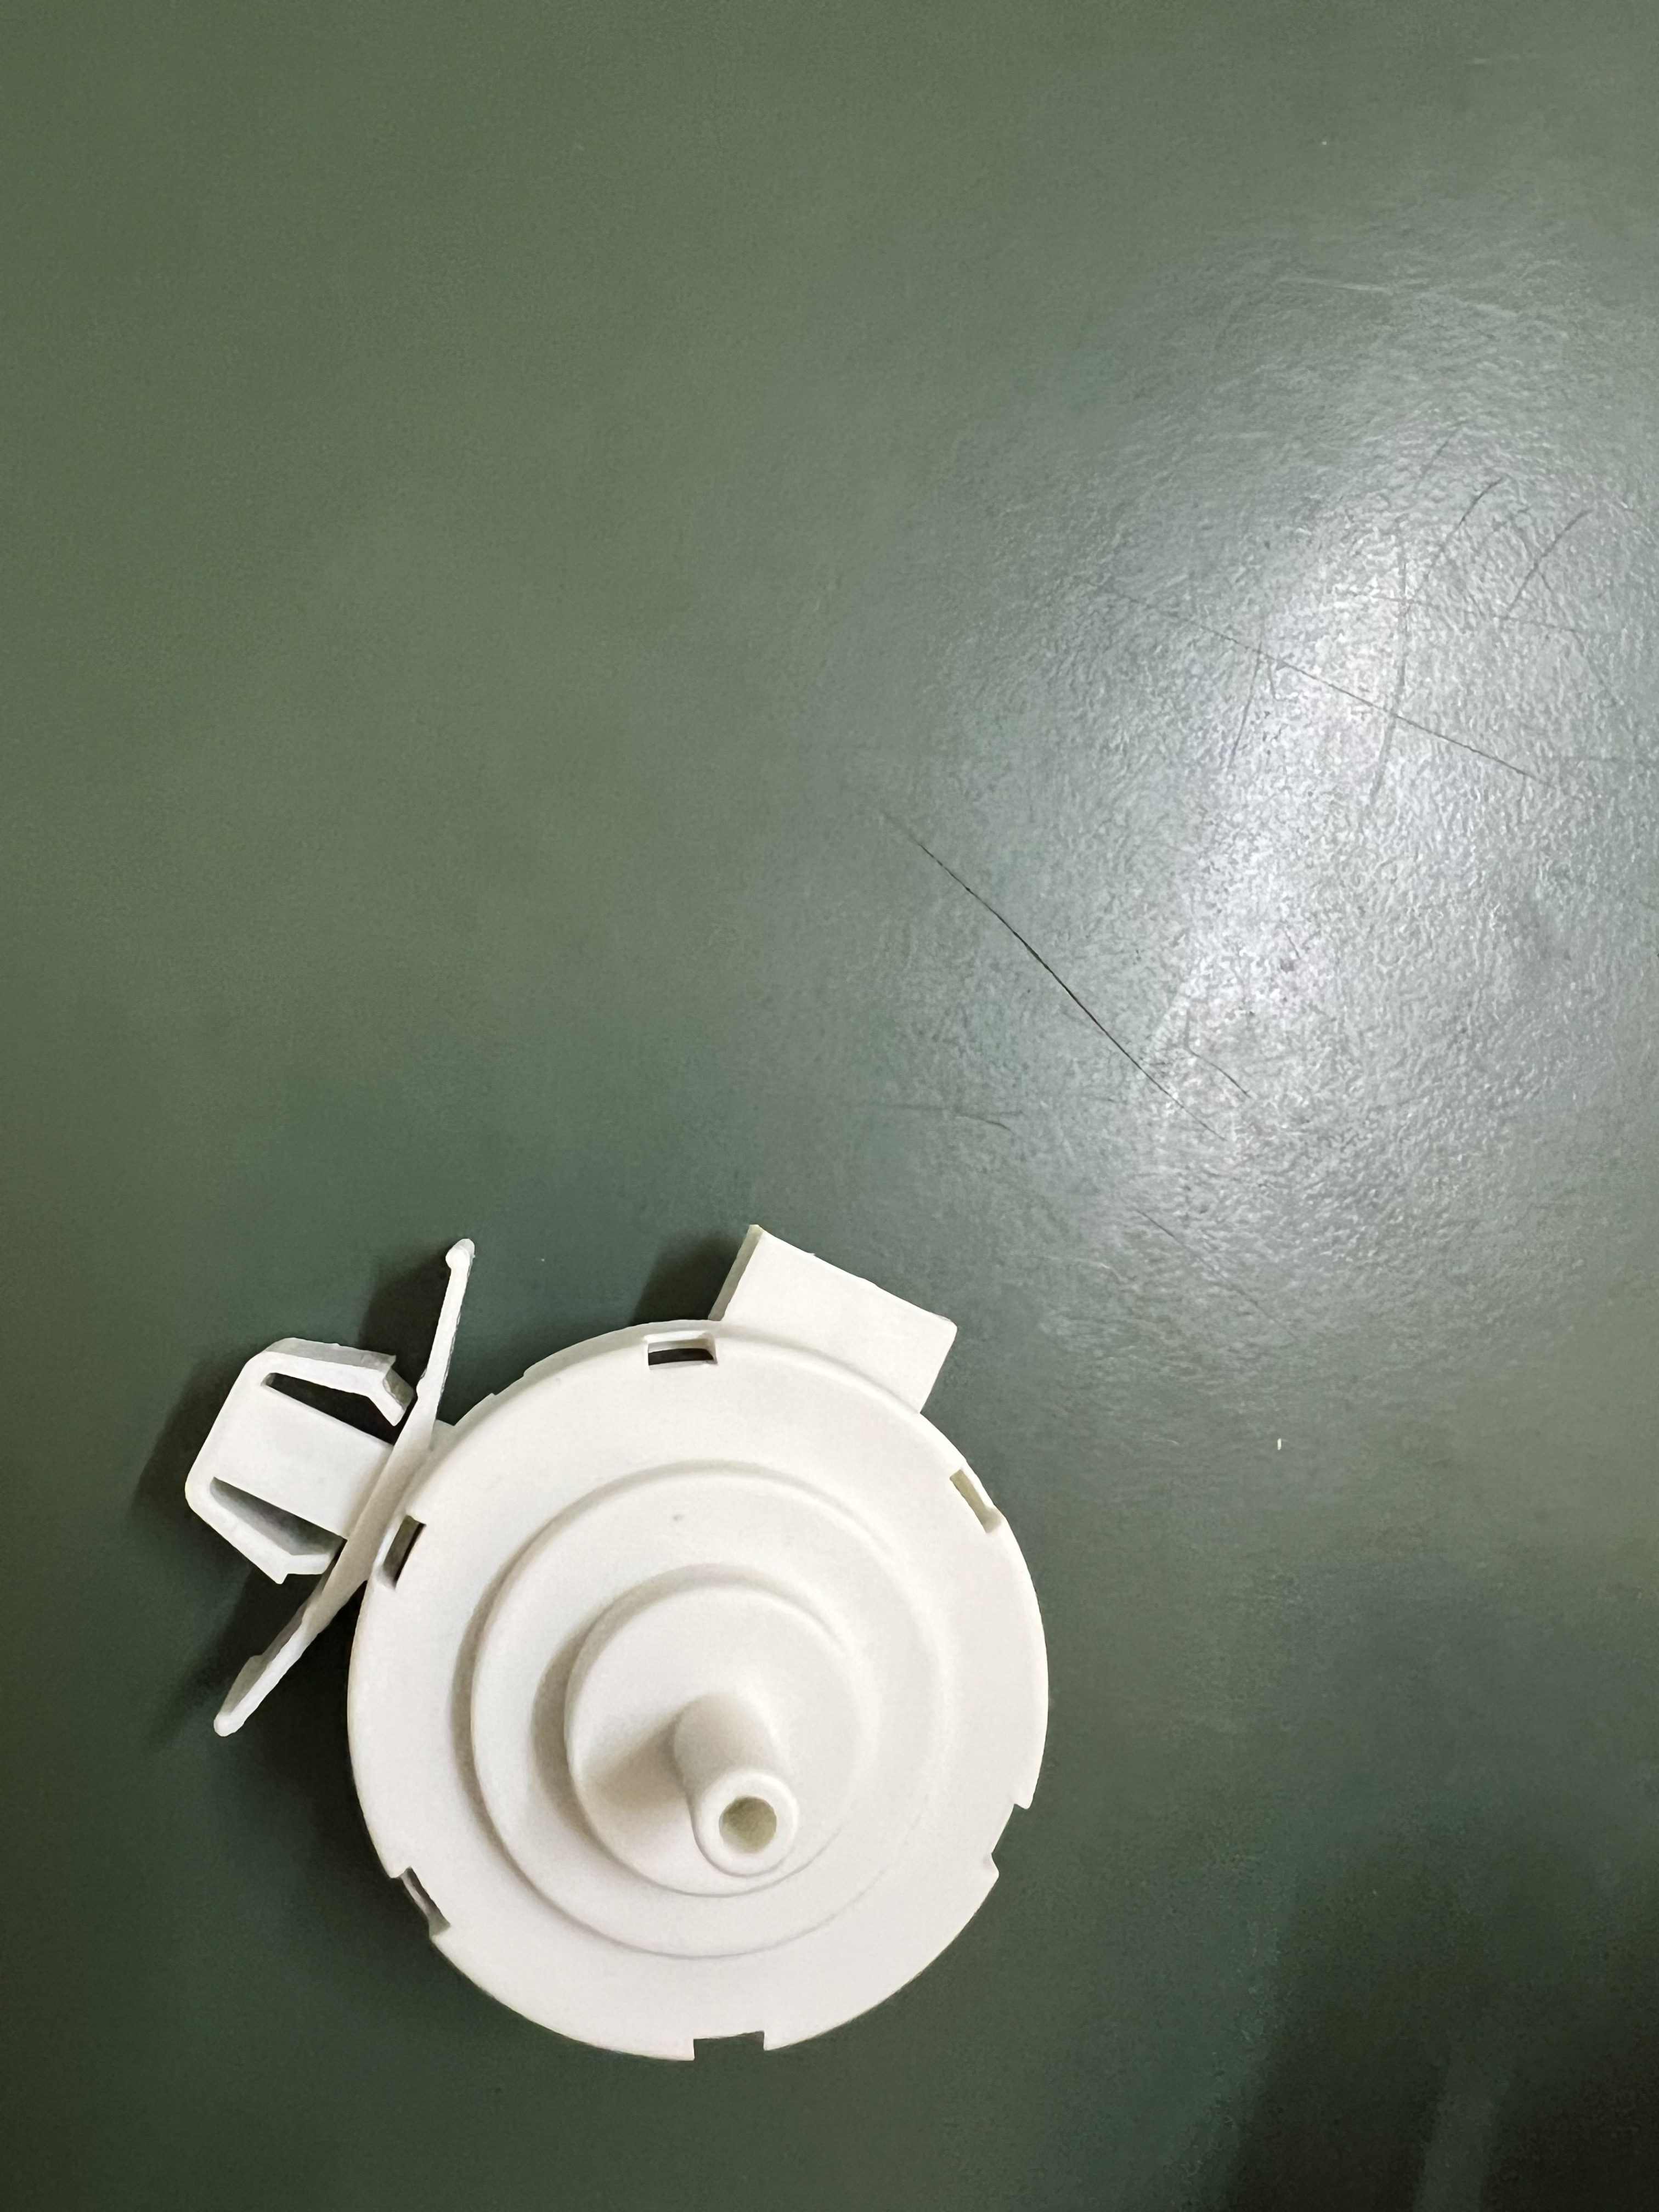pressure_switch_2: (153, 1179, 1100, 2074)
